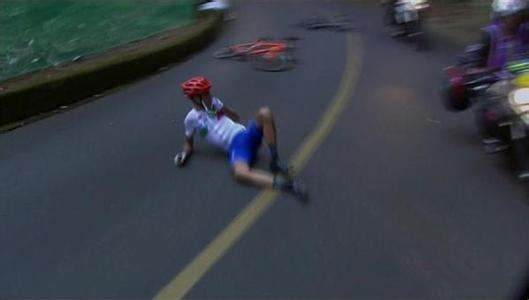falling: (168, 62, 316, 205)
